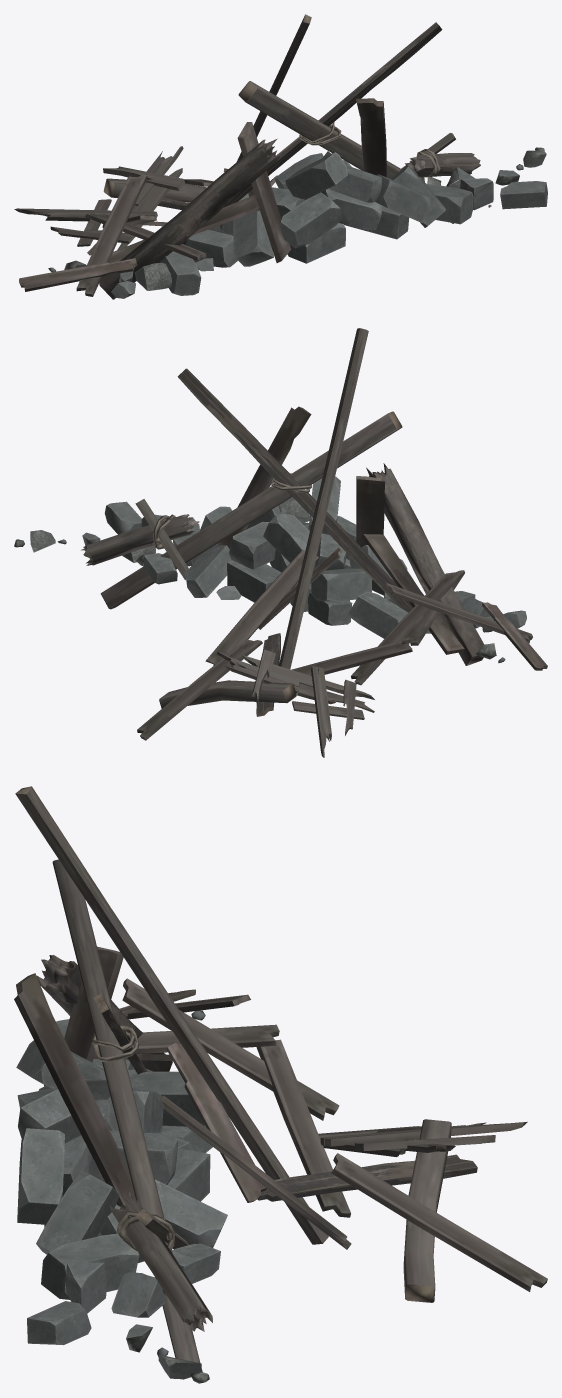
File: AEG023_132out-transformed.glb
The picture shows the model from 3 angles, top to bottom: view 1: azimuth 30°, elevation 25°; view 2: azimuth 150°, elevation 25°; view 3: azimuth 270°, elevation 25°; orthographic projection. The views are drawn at different scales.
Parts seen in each view (by area): view 1: default; view 2: default; view 3: default.
Part boxes in pixels (left/top/right/bottom): default: left=14, top=14, right=547, bottom=299; default: left=14, top=328, right=547, bottom=757; default: left=14, top=786, right=547, bottom=1383.
Bounding box in the file's own units: 5.43 × 3.03 × 3.13.
3 materials, 3 textured.
